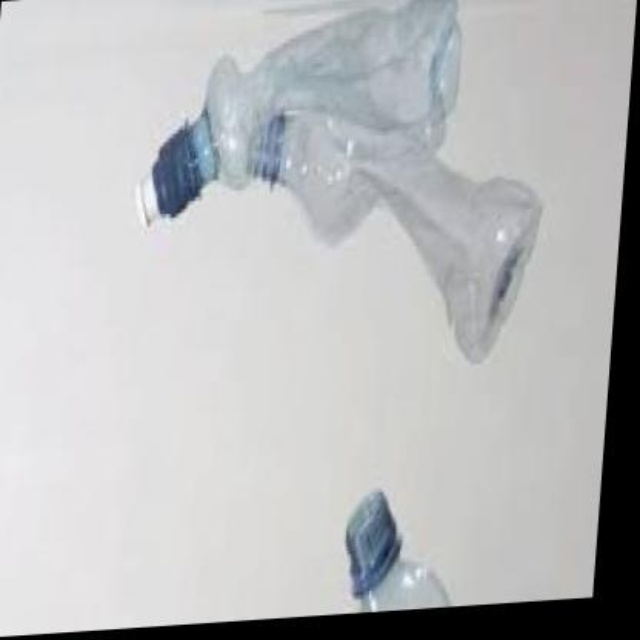trash: (138, 0, 540, 362), (346, 492, 448, 609)
